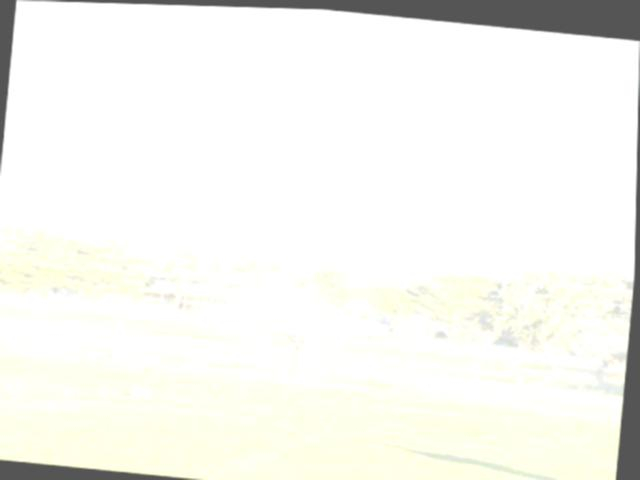iha: (241, 184, 293, 206)
